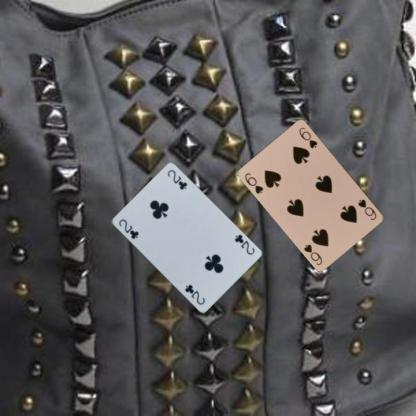2c: (116, 217, 140, 240), (232, 232, 255, 256)
6s: (242, 170, 265, 196), (355, 196, 378, 221)
